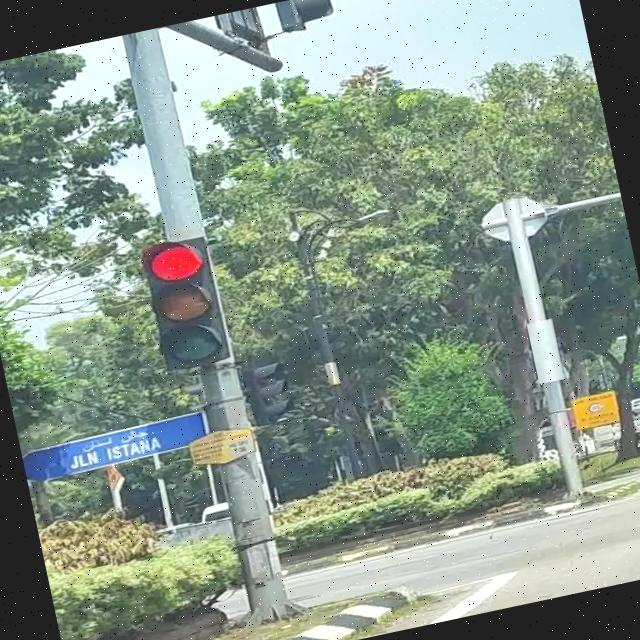red_light: (137, 234, 230, 374)
